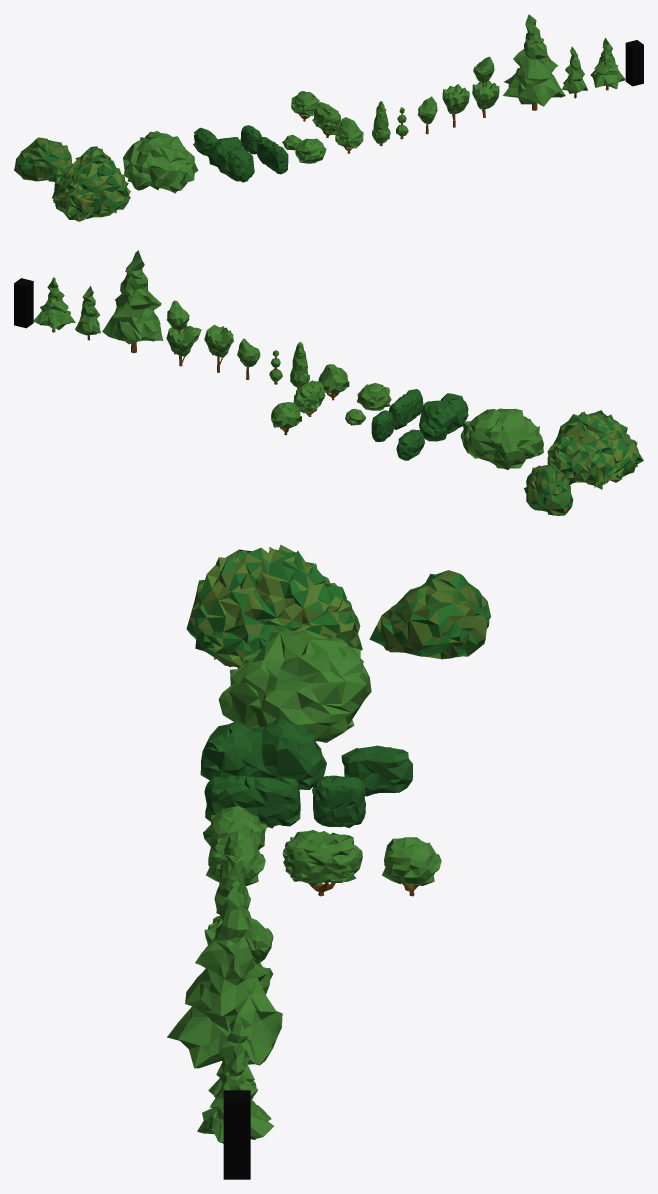
Rendered from Bushes.fbx.
3 views of the same model, one above another, from view 1: azimuth 30°, elevation 25°; view 2: azimuth 150°, elevation 25°; view 3: azimuth 270°, elevation 25° (orthographic). The views are drawn at different scales.
Parts seen in each view (by area): view 1: UlgyBush.002, BigBoyBush, SpruceTree, UlgyBush, Bush.008, PointyBush.002, SpruceTreeSmall, Bush.007, PlayerReference, Bush.002, Bush.001, SpruceLessEdgy (+7 smaller); view 2: UlgyBush.002, BigBoyBush, SpruceTree, UlgyBush, Bush.008, PointyBush.002, SpruceTreeSmall, PlayerReference, Bush.007, Bush.002, SpruceLessEdgy, PointyBush.001 (+7 smaller); view 3: UlgyBush.002, BigBoyBush, SpruceTree, UlgyBush, Bush.008, Bush.007, Bush.002, Bush.004, PlayerReference, Bush.006, Bush, SpruceTreeSmall (+5 smaller).
Boxes of the visible parts, box(x1,y1,x2,y2) form: UlgyBush.002: box(52, 146, 130, 221); BigBoyBush: box(123, 131, 198, 193); SpruceTree: box(503, 14, 565, 110); UlgyBush: box(14, 137, 72, 182); Bush.008: box(208, 137, 254, 182); PointyBush.002: box(472, 56, 499, 117); SpruceTreeSmall: box(590, 37, 625, 90); Bush.007: box(257, 136, 288, 174); PlayerReference: box(625, 40, 643, 86); Bush.002: box(312, 102, 341, 137); Bush.001: box(335, 117, 363, 153); SpruceLessEdgy: box(562, 46, 587, 98); UlgyBush.002: box(547, 410, 643, 489); BigBoyBush: box(460, 408, 543, 469); SpruceTree: box(102, 250, 163, 353); UlgyBush: box(524, 464, 573, 515); Bush.008: box(419, 393, 468, 441); PointyBush.002: box(166, 300, 201, 366); SpruceTreeSmall: box(33, 277, 75, 332); PlayerReference: box(14, 278, 33, 328); Bush.007: box(389, 389, 423, 429); Bush.002: box(293, 380, 326, 416); SpruceLessEdgy: box(75, 286, 100, 340); PointyBush.001: box(204, 324, 233, 372); UlgyBush.002: box(186, 544, 362, 668); BigBoyBush: box(218, 629, 371, 742); SpruceTree: box(167, 881, 282, 1068); UlgyBush: box(369, 570, 490, 659); Bush.008: box(200, 717, 326, 789); Bush.007: box(204, 775, 300, 828); Bush.002: box(282, 831, 362, 896); Bush.004: box(341, 745, 412, 796); PlayerReference: box(223, 1090, 250, 1179); Bush.006: box(312, 775, 365, 827); Bush: box(382, 837, 441, 896); SpruceTreeSmall: box(197, 1043, 273, 1143).
Bounding box in the file's own units: 10990 × 1785 × 2676.
